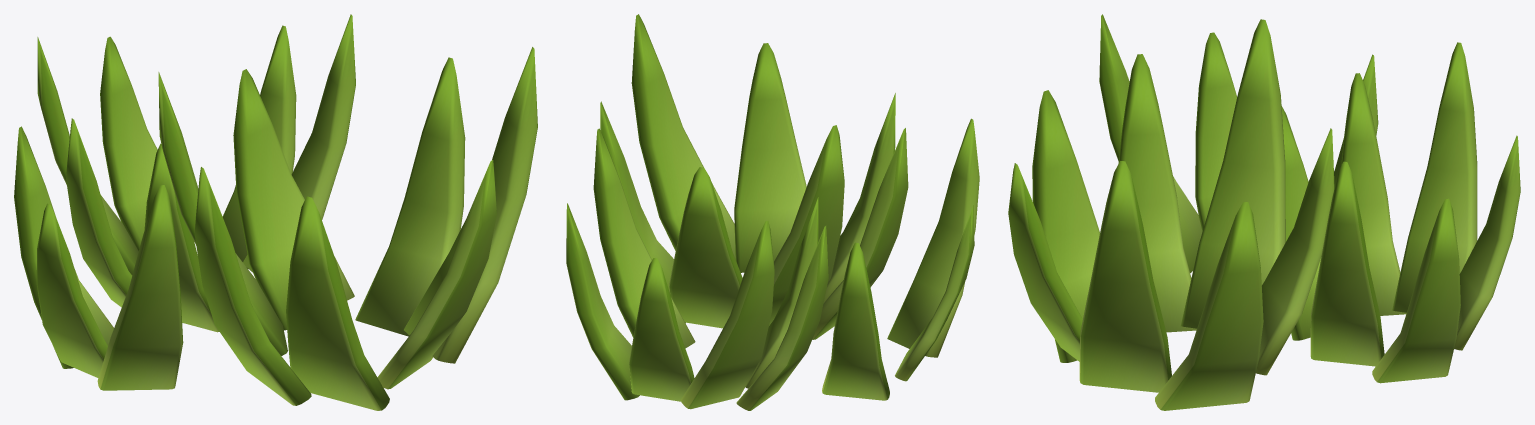
The model's file is Grass4.fbx.
3 views of the same model, side by side, from view 1: azimuth 30°, elevation 25°; view 2: azimuth 150°, elevation 25°; view 3: azimuth 270°, elevation 25° (orthographic). The views are drawn at different scales.
Parts seen in each view (by area): view 1: Cube.054, Cube.055, Cube.065, Cube.057, Cube.052, Cube.056, Cube.053, Cube.067, Cube.064, Cube.072, Cube.068, Cube.058 (+4 smaller); view 2: Cube.053, Cube.052, Cube.057, Cube.066, Cube.065, Cube.061, Cube.072, Cube.067, Cube.058, Cube.070, Cube.068, Cube.056 (+4 smaller); view 3: Cube.052, Cube.058, Cube.054, Cube.056, Cube.072, Cube.066, Cube.055, Cube.070, Cube.057, Cube.068, Cube.053, Cube.067 (+4 smaller).
Boxes of the visible parts, x1,y1,x2,y2 form: Cube.054: (355,57,465,336); Cube.055: (286,196,389,410); Cube.065: (97,185,183,390); Cube.057: (233,69,354,330); Cube.052: (404,47,537,363); Cube.056: (194,167,311,405); Cube.053: (377,160,496,389); Cube.067: (100,36,157,250); Cube.064: (36,203,107,377); Cube.072: (243,14,355,272); Cube.068: (66,118,132,307); Cube.058: (158,72,287,355); Cube.053: (734,43,806,272); Cube.052: (631,14,735,258); Cube.057: (669,167,742,328); Cube.066: (680,221,774,409); Cube.065: (887,118,979,357); Cube.061: (822,242,889,400); Cube.072: (593,128,695,348); Cube.067: (629,258,694,401); Cube.058: (769,125,844,325); Cube.070: (566,203,639,400); Cube.068: (736,225,828,410); Cube.056: (812,128,908,339); Cube.052: (1079,161,1171,392); Cube.058: (1181,19,1285,328); Cube.054: (1155,202,1263,410); Cube.056: (1118,54,1196,332); Cube.072: (1310,161,1384,366); Cube.066: (1392,42,1477,312); Cube.055: (1032,90,1099,362); Cube.070: (1372,198,1460,383); Cube.057: (1256,128,1334,375); Cube.068: (1341,73,1406,315); Cube.053: (1008,163,1082,361); Cube.067: (1454,135,1520,350).
Bounding box in the file's own units: 103 × 65.75 × 106.
